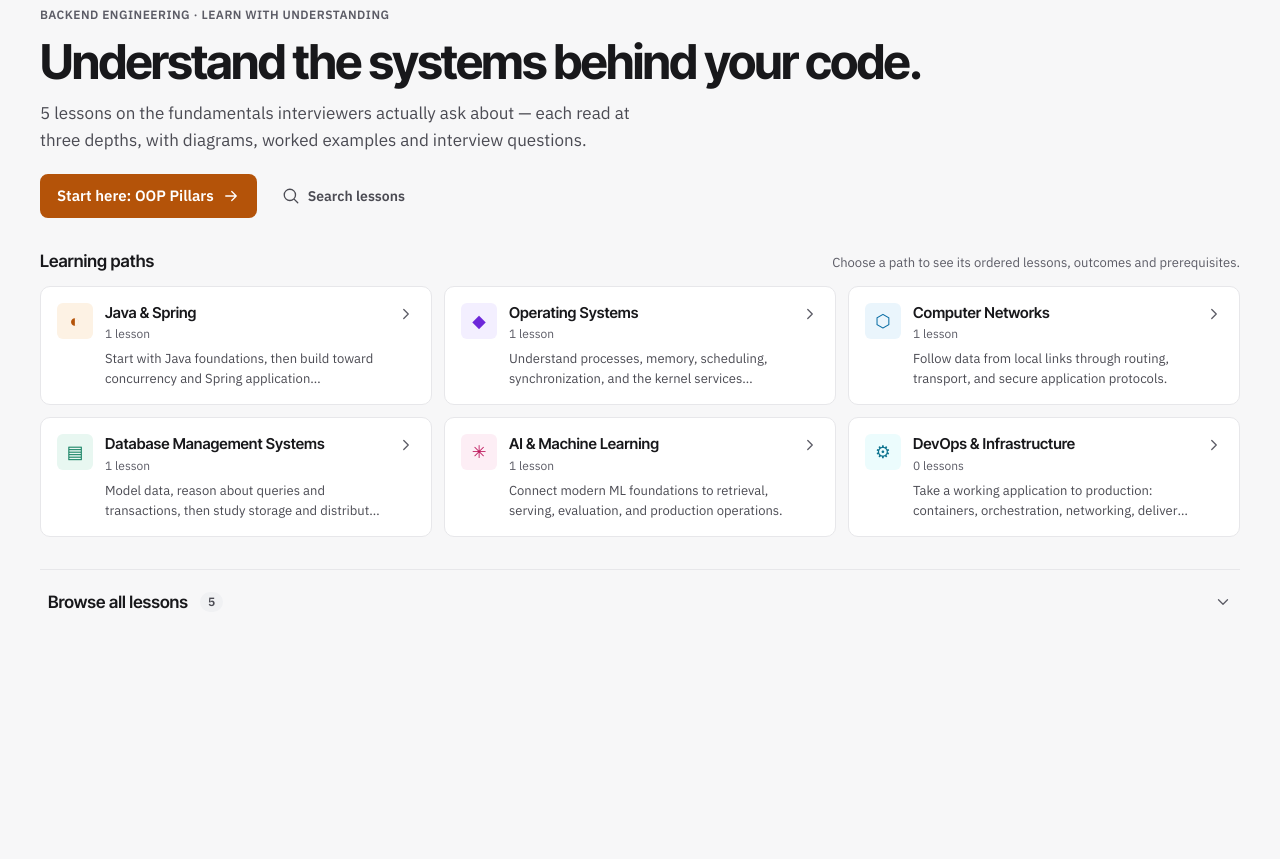
Test: HomePage › hides zero-state clutter until it means something
This screenshot has width=1280, height=859.
Click the button "Browse all lessons 5" at (118, 602), box [40, 578, 1240, 626]
(page scrolled)
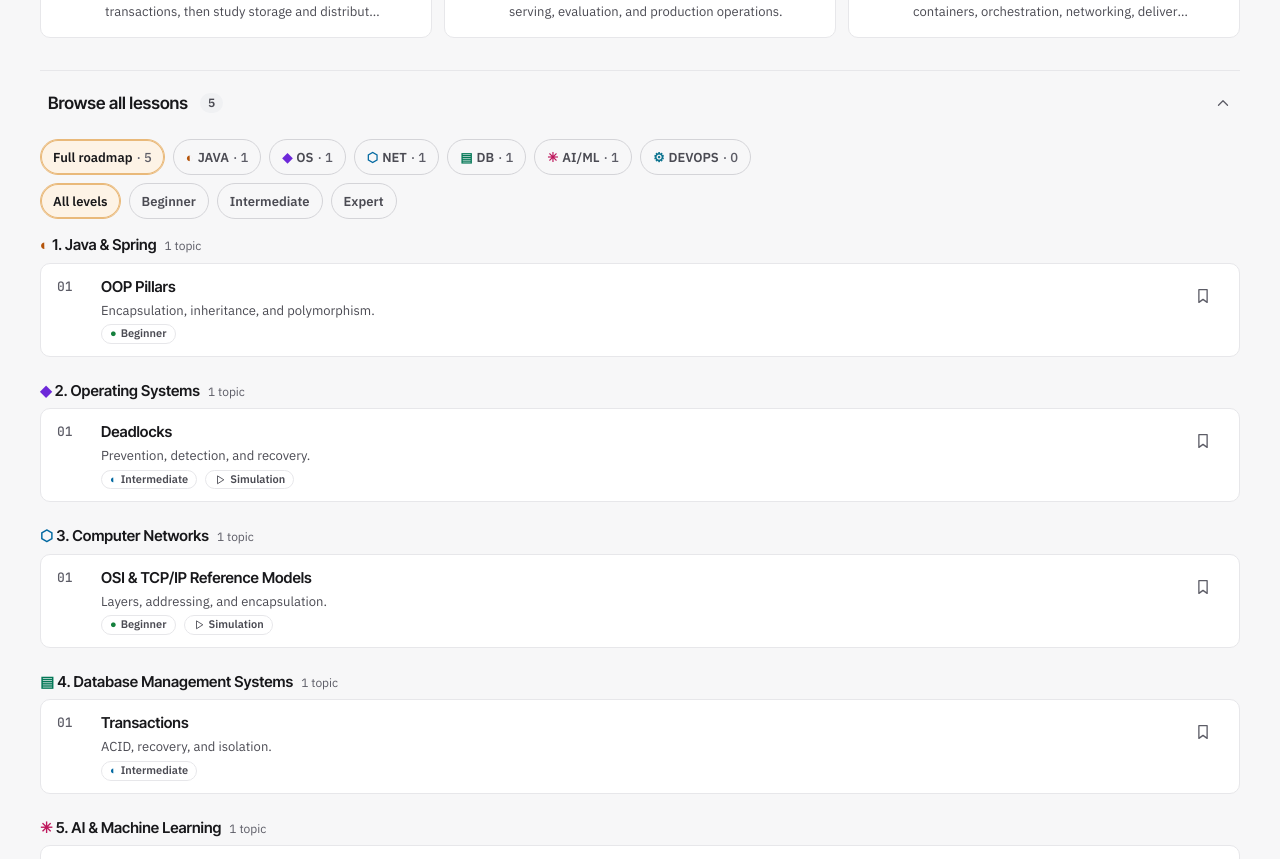
Expected: the button "bookmarked" is not shown
Now the link "OOP Pillars" is shown, box [101, 277, 176, 296]
Click the button named "Bookmark Deadlocks" at (1203, 441), box [1183, 421, 1223, 461]
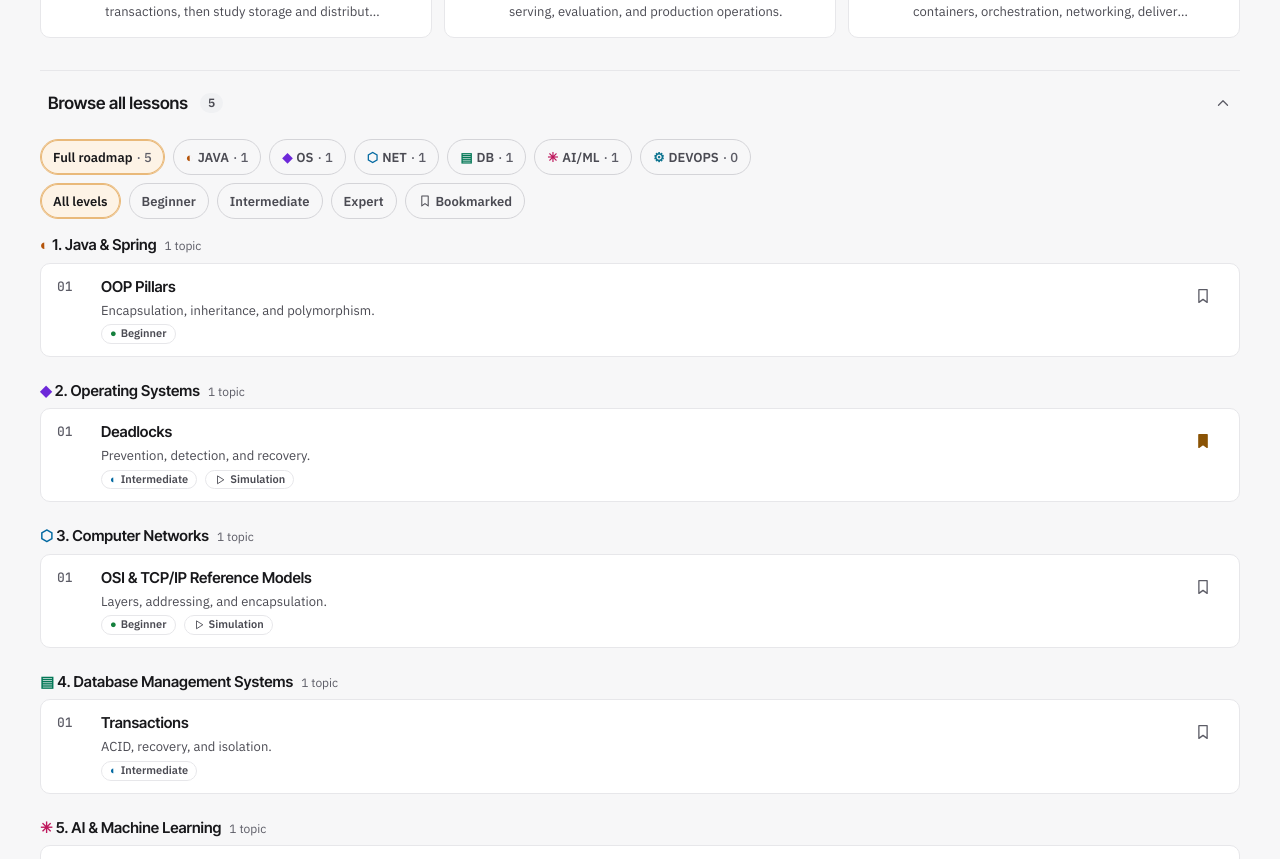
Now the button "Bookmarked" is shown, box [404, 183, 525, 219]
